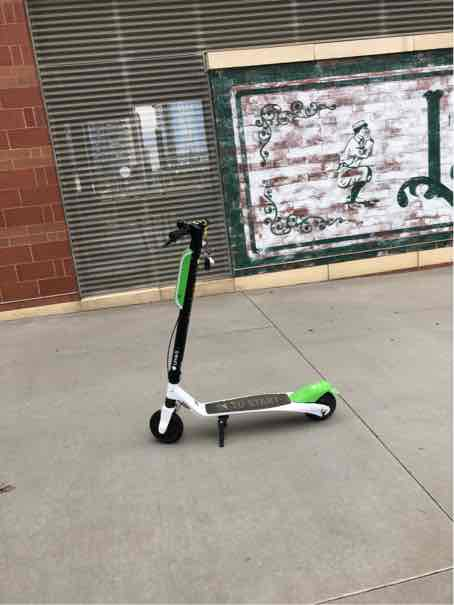scooter: (142, 207, 339, 451)
